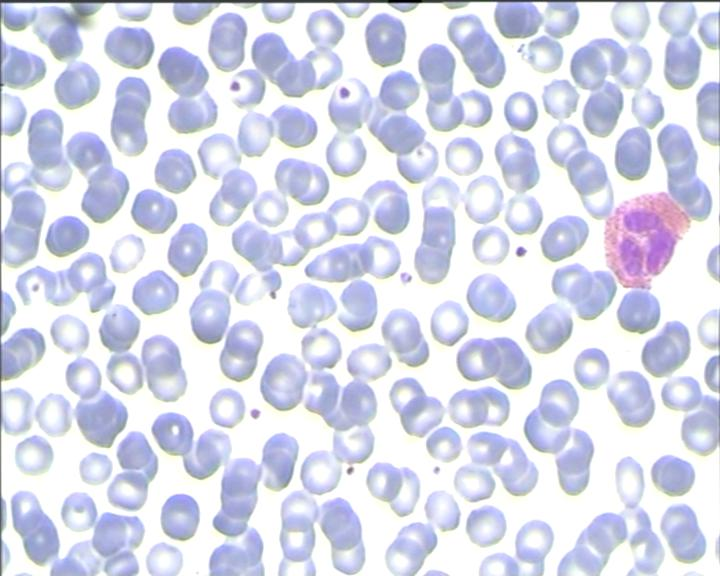eosi: (598, 190, 691, 292)
